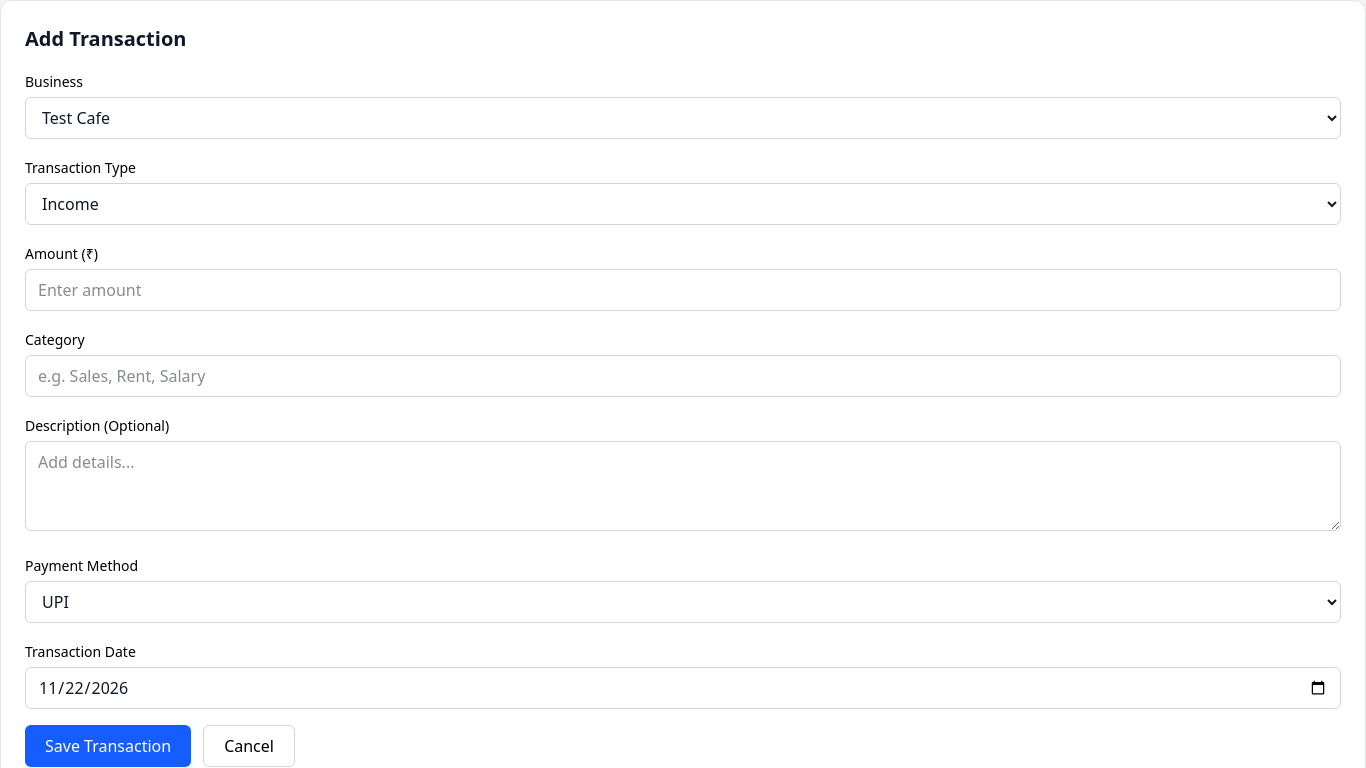
Scenario: TransactionForm › rejects amounts with more than two decimal places
Type "100.123" into the number field labelled "Amount (₹)". click: (683, 290)
box: [25,269,1341,311]
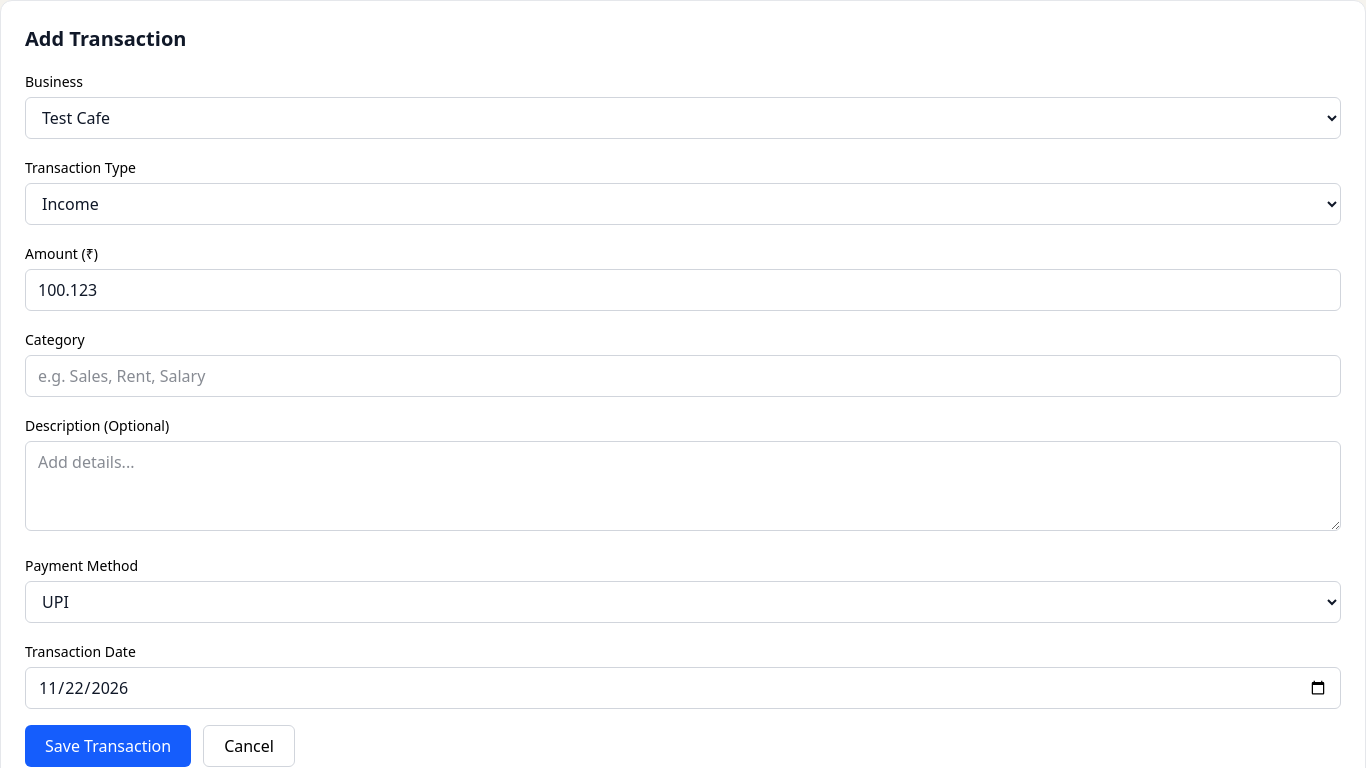
Type "Sales" into the field labelled "Category". click: (683, 376)
box: [25,355,1341,397]
(page scrolled)
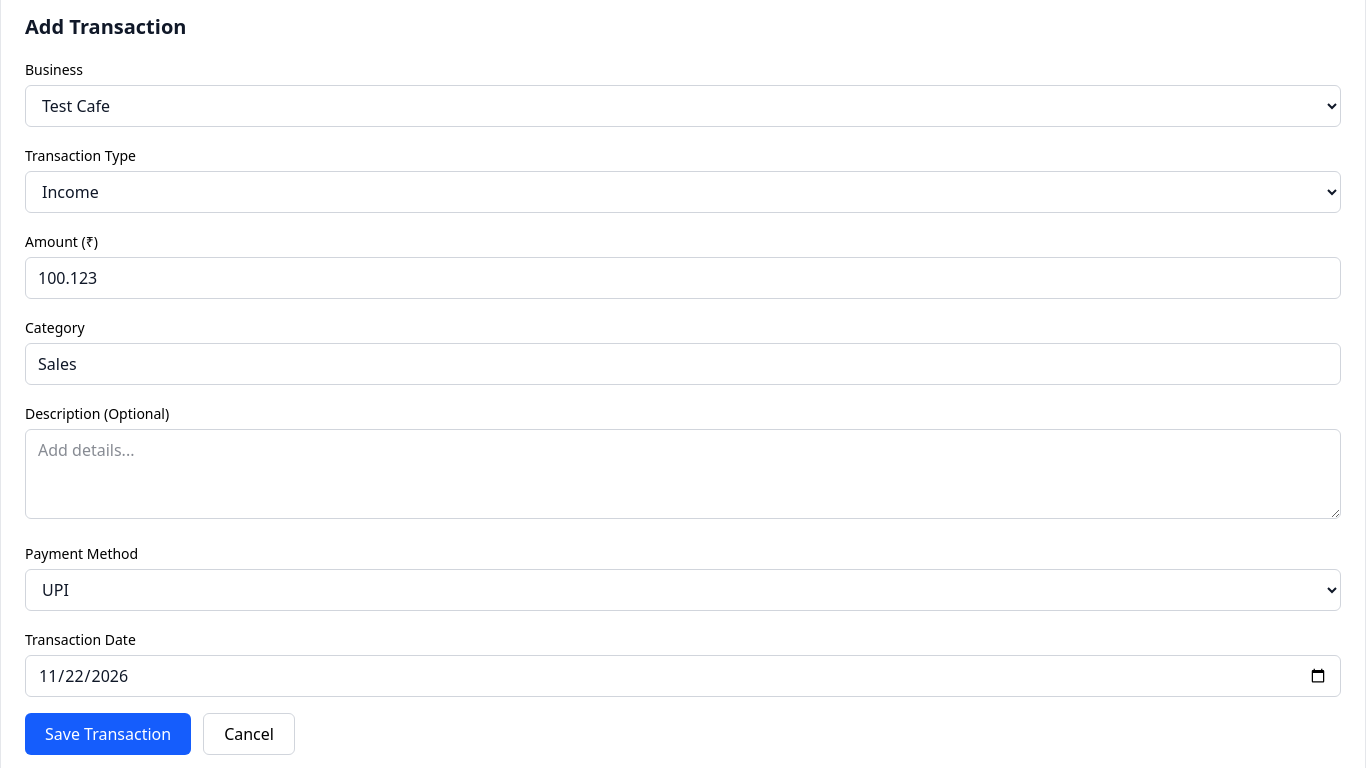
Submit the form named "Save Transaction"
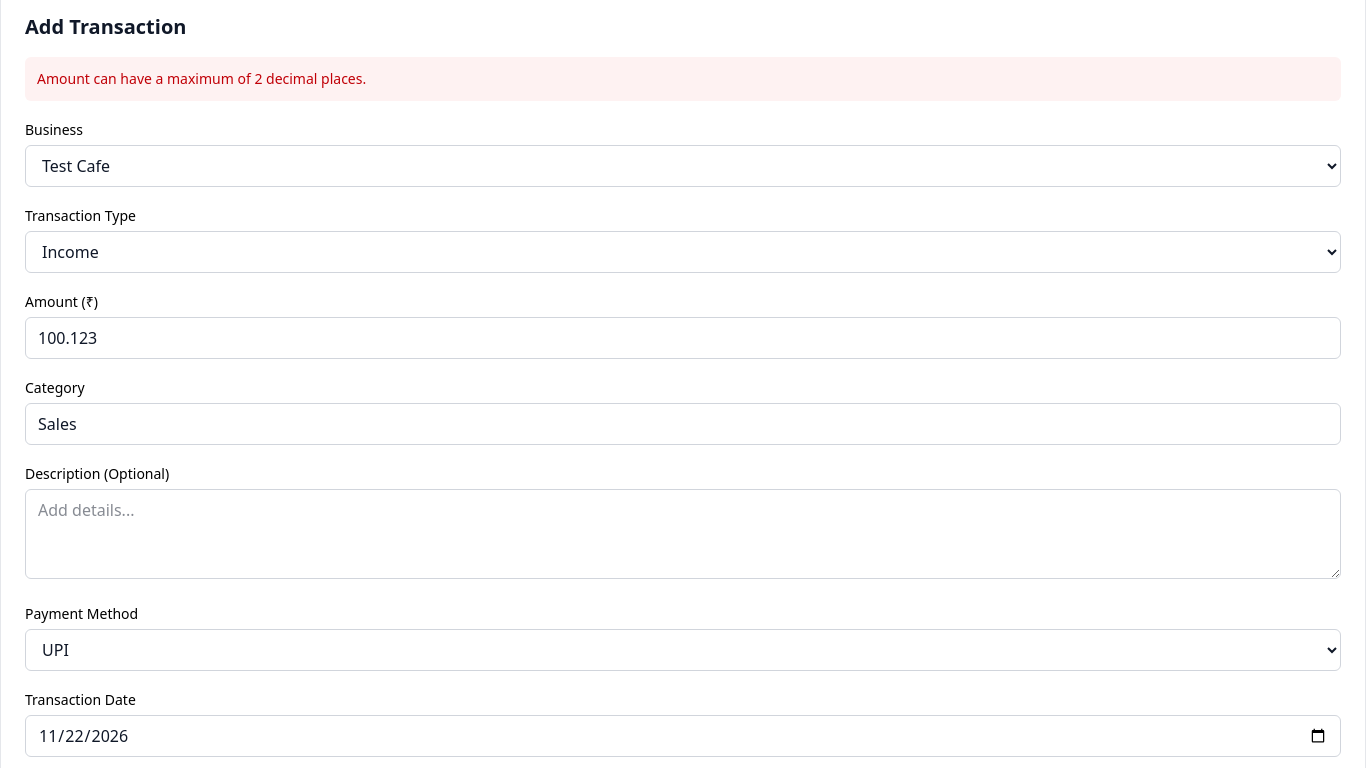
Now the message reads "Amount can have a maximum of 2 decimal places.", box [37,69,366,88]
